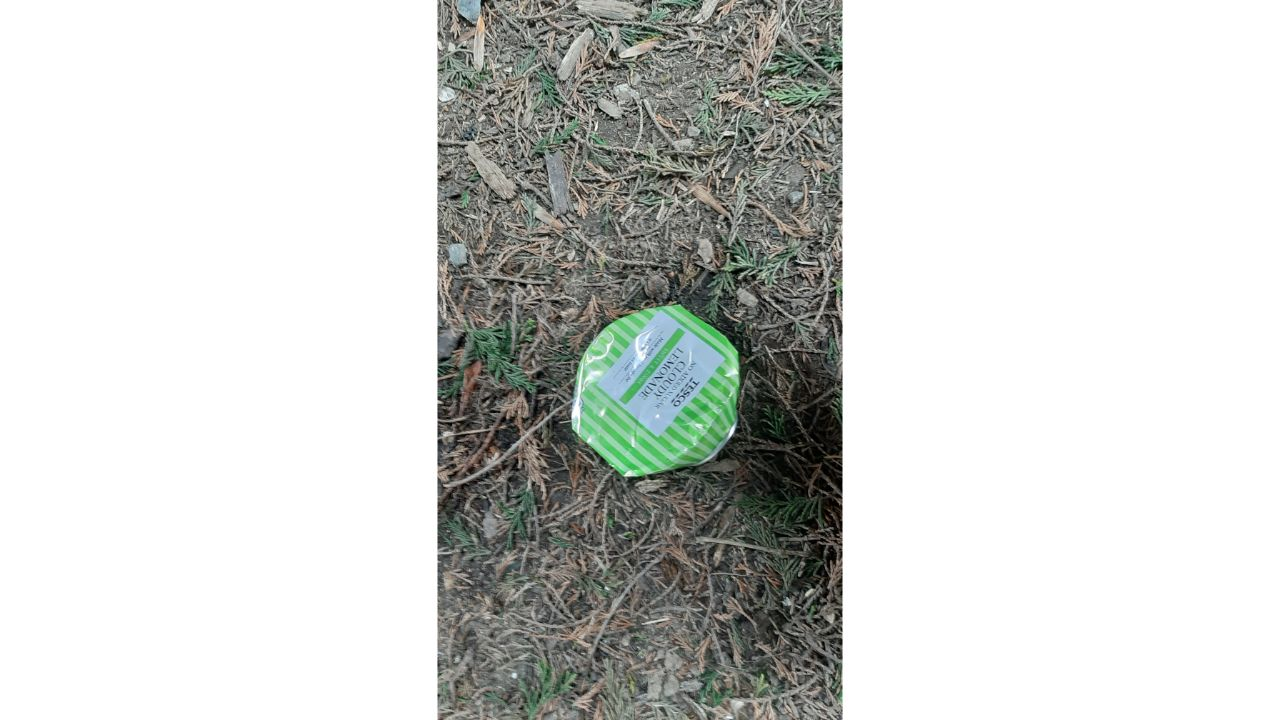Can: (565, 304, 745, 484)
